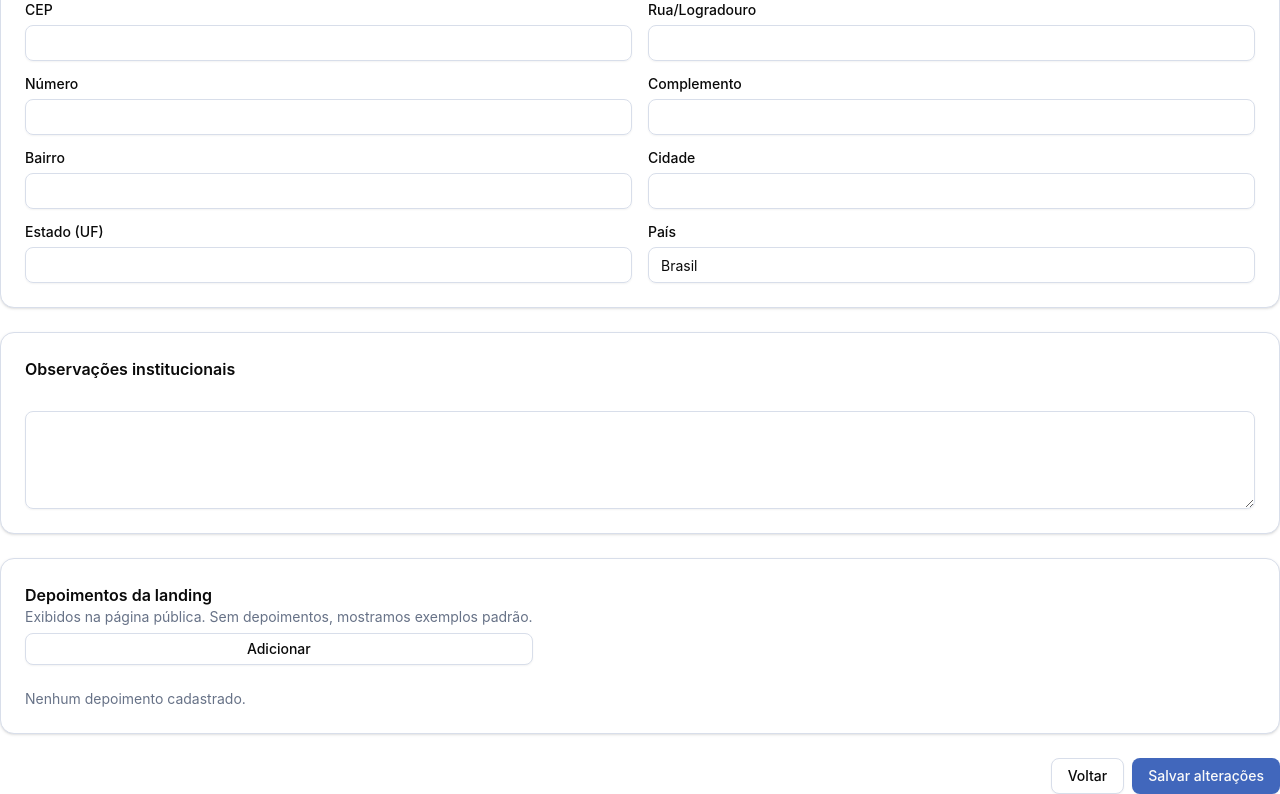
it: WorkshopProfilePage › requires a nome fantasia before saving
This screenshot has width=1280, height=794.
(page scrolled)
Click the button "Salvar alterações".
click(1206, 776)  # box 1132,758 -> 1279,793
(page scrolled)
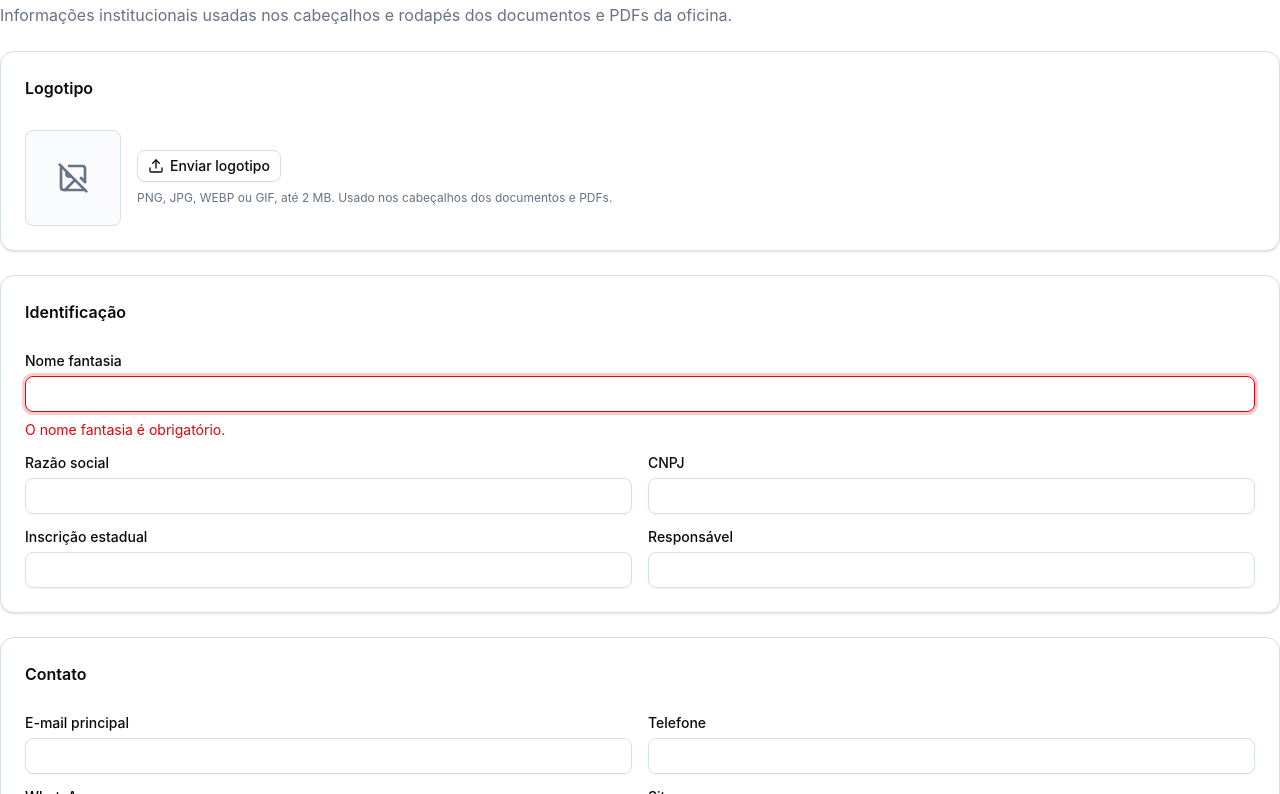
expect the text "O nome fantasia é obrigatório." is shown: met, box 25,421 -> 225,438
